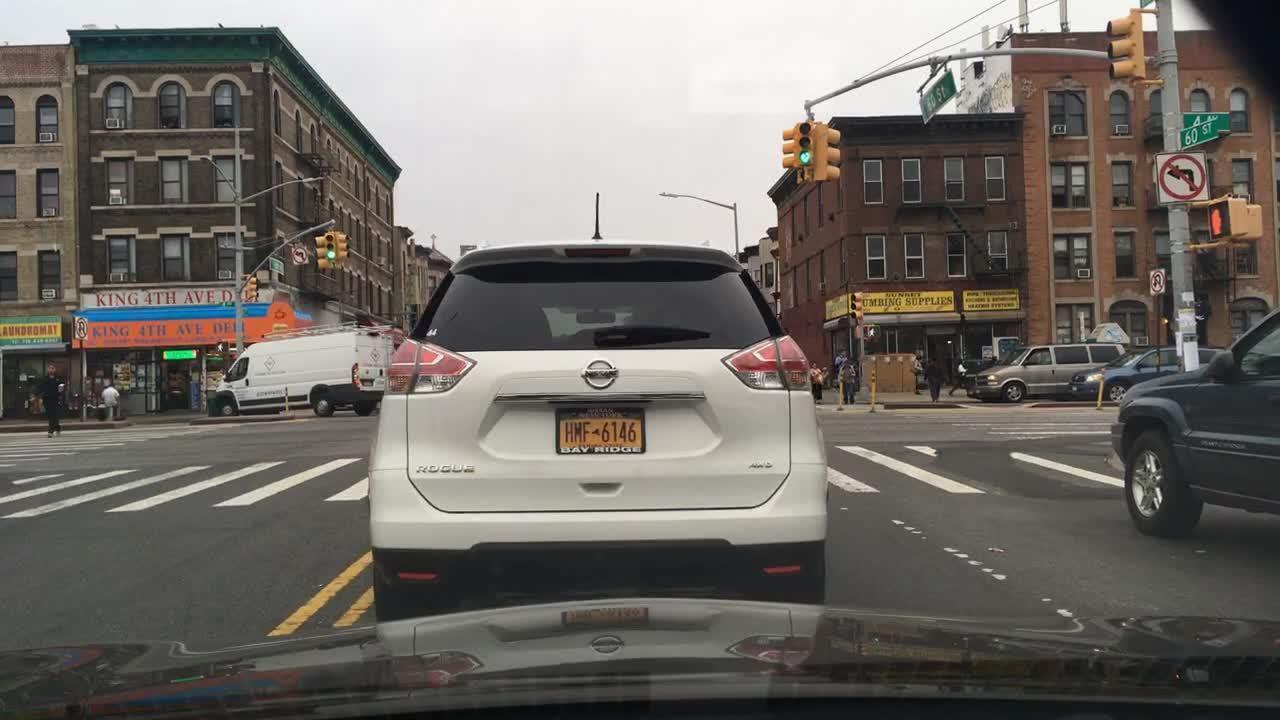Nissan: (575, 350, 632, 402)
